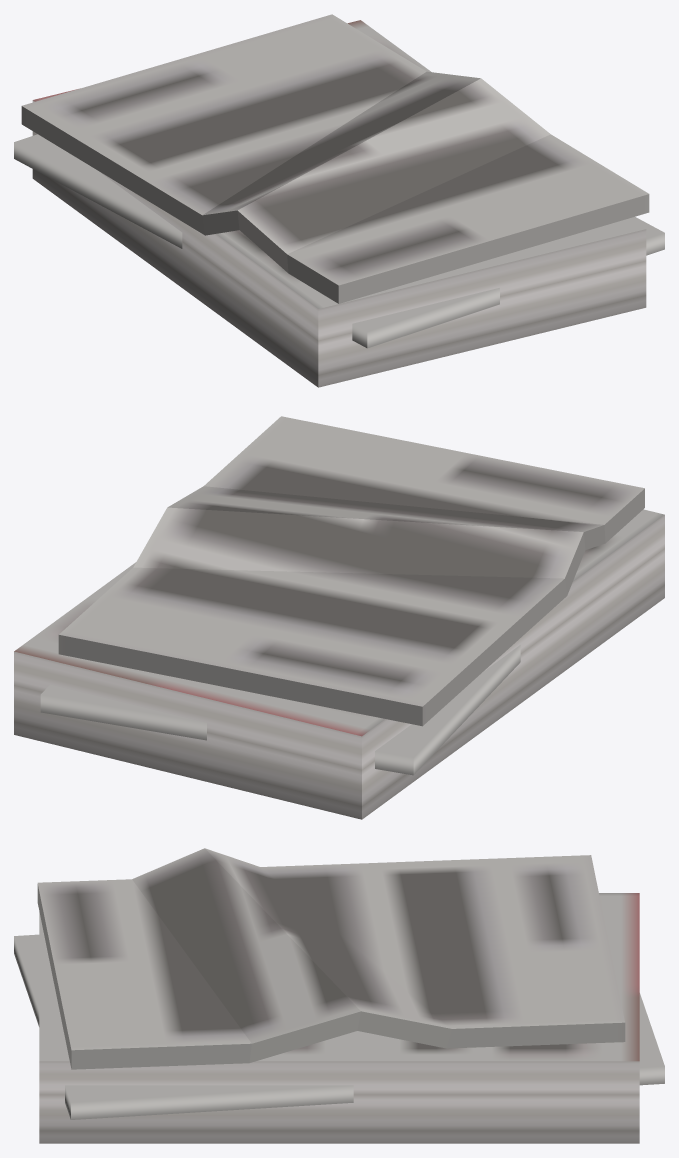
File: SM_Prop_Paper_Pile_01.glb
The picture shows the model from 3 angles, top to bottom: view 1: azimuth 30°, elevation 25°; view 2: azimuth 150°, elevation 25°; view 3: azimuth 270°, elevation 25°; orthographic projection. The views are drawn at different scales.
Visible parts, largest first — view 1: SM_Prop_Paper_Pile_01; view 2: SM_Prop_Paper_Pile_01; view 3: SM_Prop_Paper_Pile_01.
Part boxes in pixels (left/top/right/bottom): SM_Prop_Paper_Pile_01: left=14, top=14, right=664, bottom=387; SM_Prop_Paper_Pile_01: left=14, top=416, right=664, bottom=819; SM_Prop_Paper_Pile_01: left=14, top=848, right=664, bottom=1143.
Size of the model in its own units: 0.2669 by 0.0774 by 0.3617.
1 material, 1 textured.
